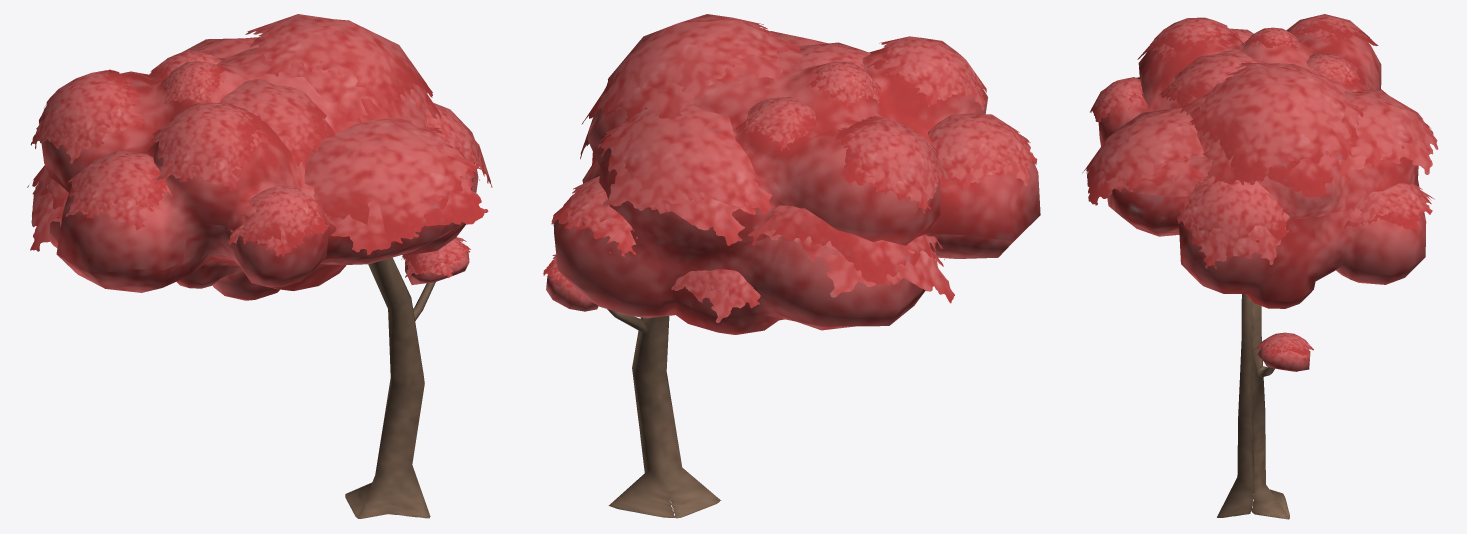
The model's file is gg_Tree.FBX.
3 renders of one model, left to right at view 1: azimuth 30°, elevation 25°; view 2: azimuth 150°, elevation 25°; view 3: azimuth 270°, elevation 25°, orthographic. The views are drawn at different scales.
Visible parts, largest first — view 1: gg_Tree_01; view 2: gg_Tree_01; view 3: gg_Tree_01.
Part boxes in pixels (x1,y1,x2,y2): gg_Tree_01: (27, 14, 492, 518); gg_Tree_01: (543, 14, 1040, 518); gg_Tree_01: (1082, 14, 1438, 519).
Size of the model in its own units: 392 by 411 by 341.
Materials: 1 (1 with a texture image).
